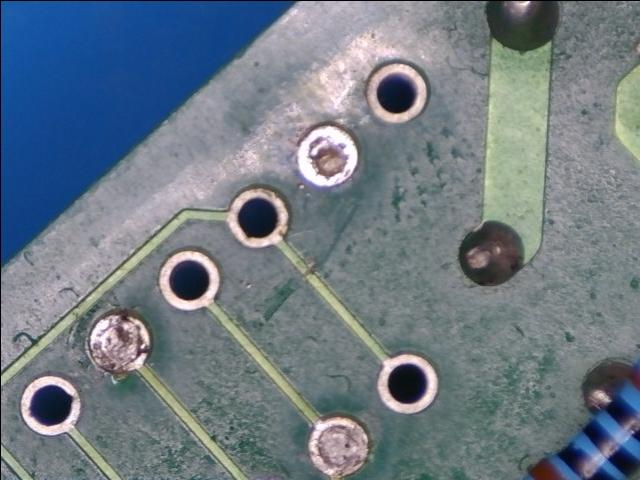Dry_joint: (298, 126, 357, 186), (90, 316, 151, 373), (309, 418, 369, 475)
